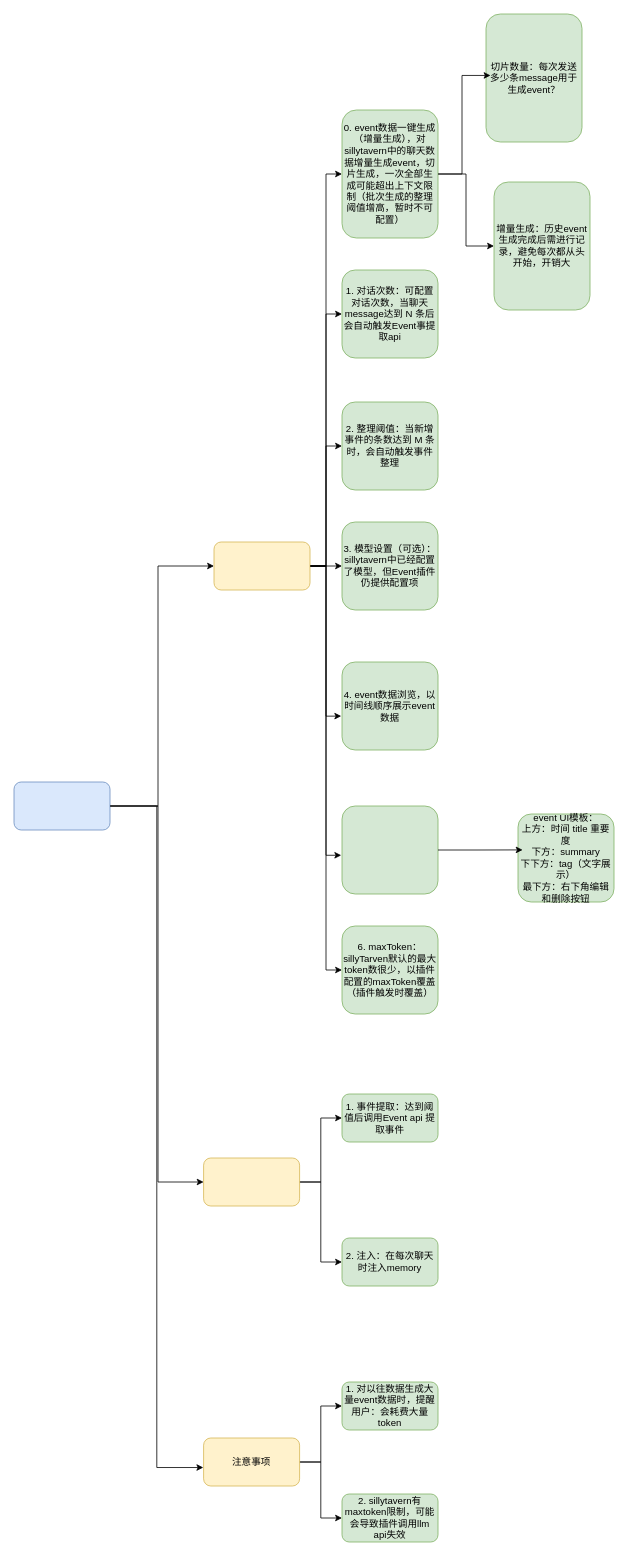
Image size: 628x1556. Some labels were removed from this diagram. The shapes that lost their labels are listed below. From the top down, each one's centre as x and y in pixels, then its label:
At point (261, 565): "配置项".
At point (61, 805): "EventChronicle extension".
At point (389, 849): "5. event修改和删除".
At point (251, 1181): "对话更改".
